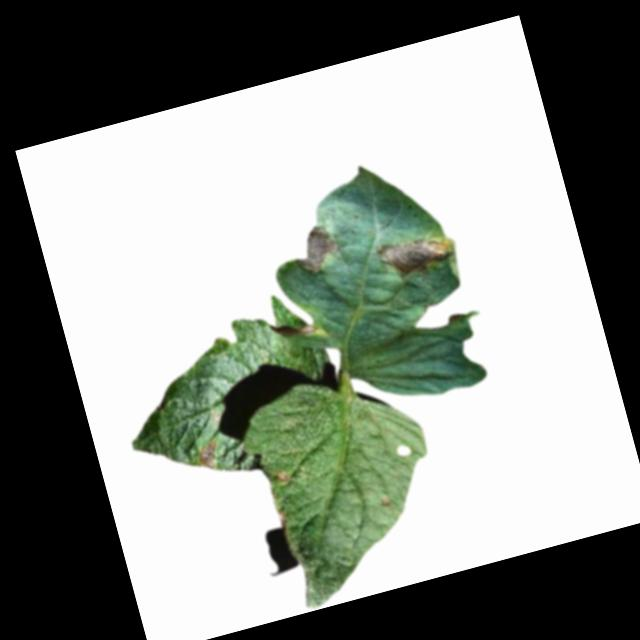Early_blight: (378, 225, 457, 288), (288, 219, 345, 280), (266, 312, 316, 347), (196, 437, 223, 471), (273, 506, 290, 530), (275, 468, 290, 486)
